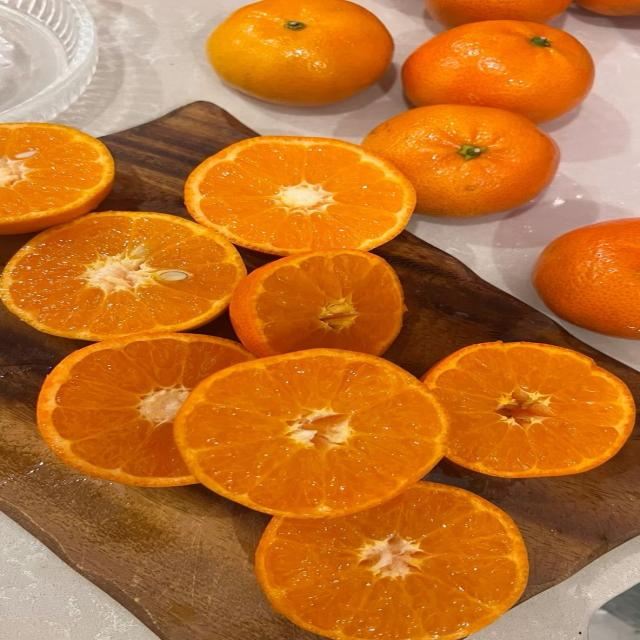orange: (174, 349, 446, 518), (256, 482, 528, 639), (38, 333, 253, 486), (0, 212, 246, 341), (423, 343, 634, 477), (185, 137, 415, 255), (363, 105, 559, 217), (207, 0, 393, 105), (402, 21, 593, 121), (230, 250, 405, 356), (534, 218, 639, 339), (0, 123, 113, 234), (426, 0, 571, 27), (576, 0, 639, 16)
